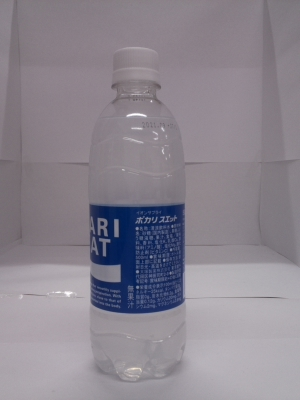pocari: (75, 39, 202, 392)
